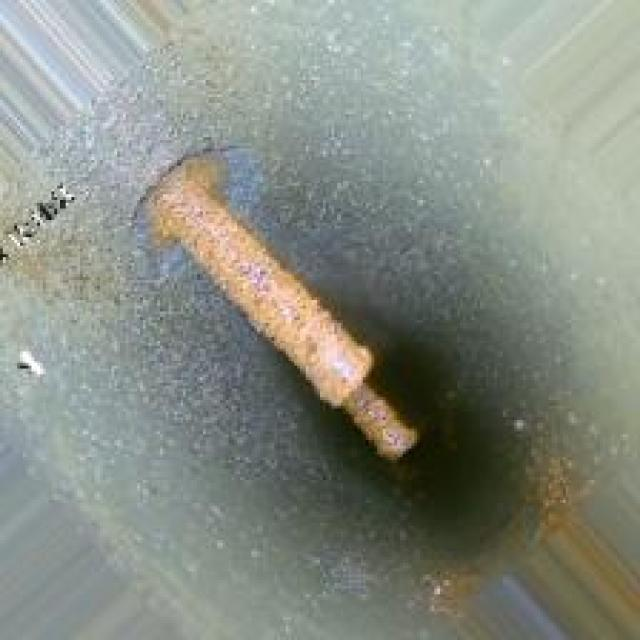ferrule: (123, 137, 431, 463)
